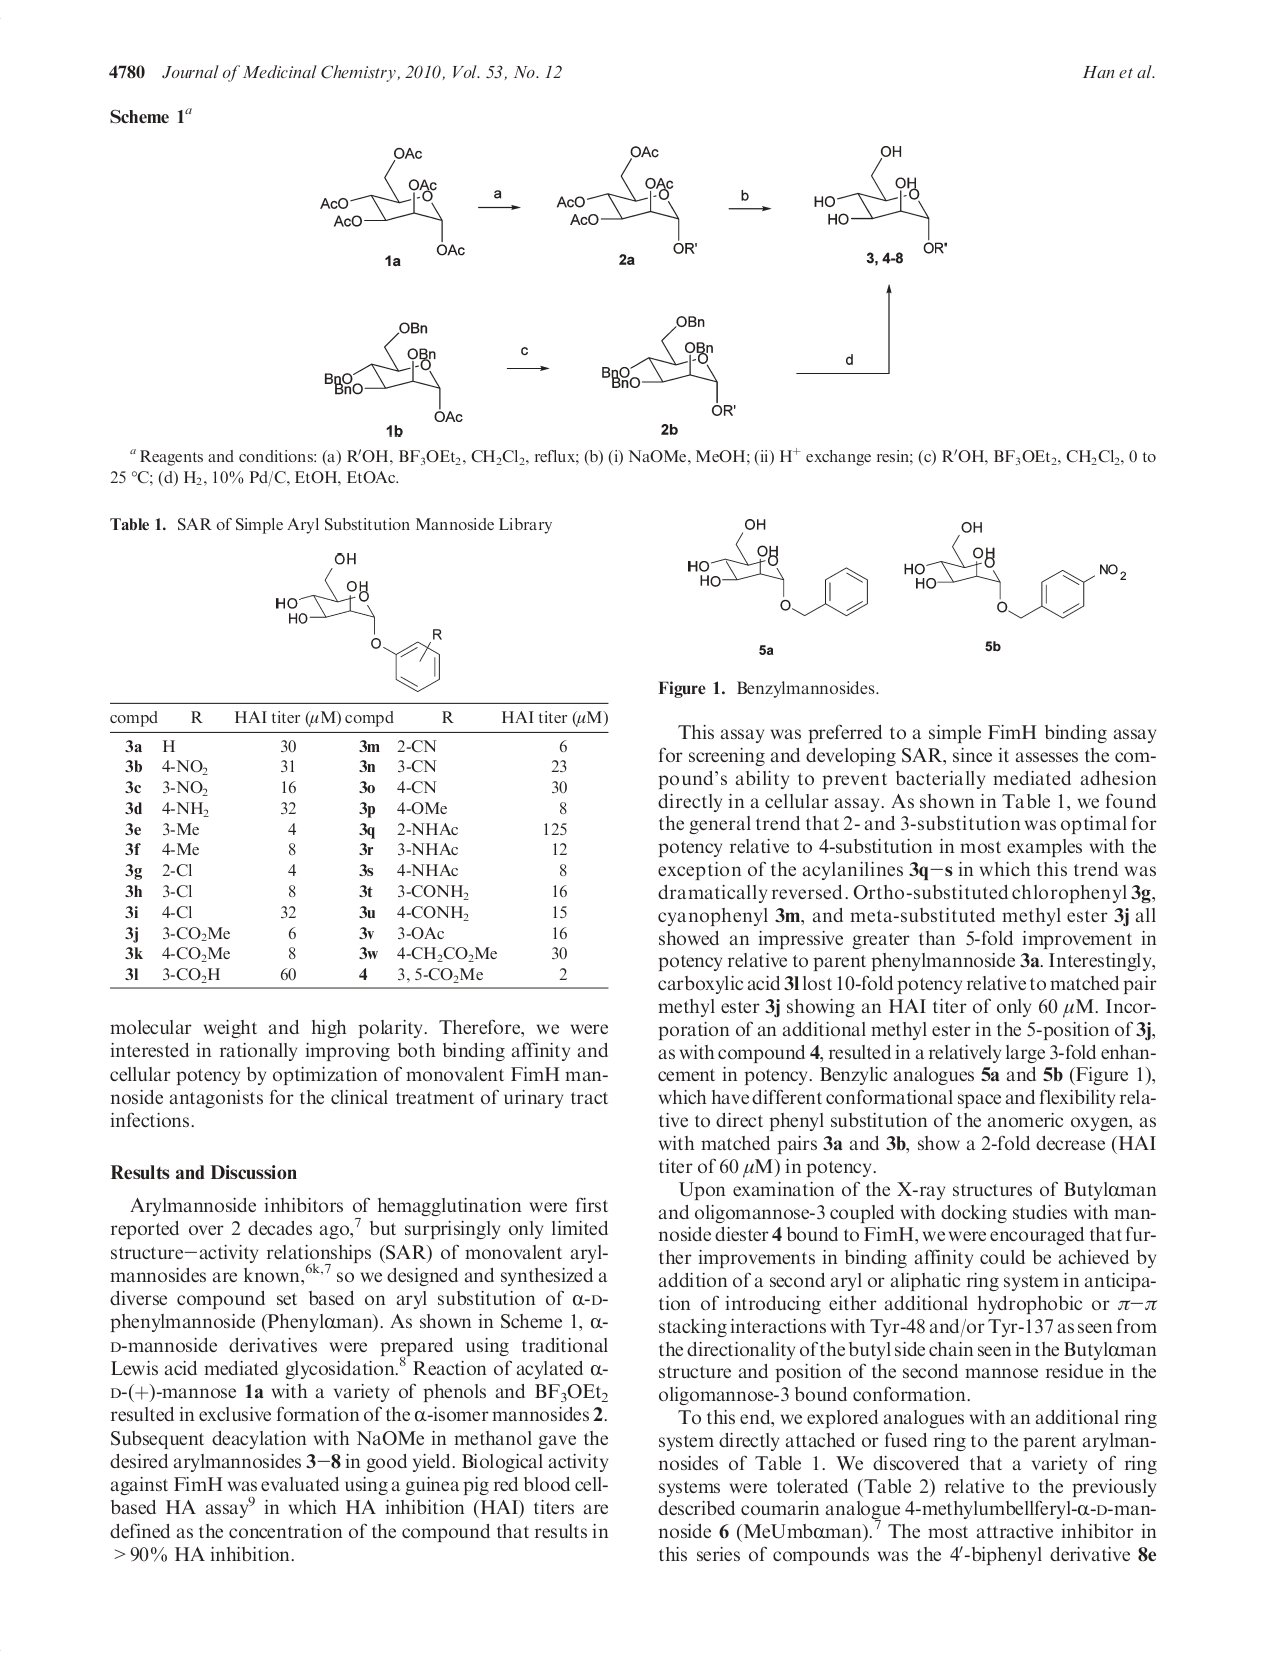exist_molecular: (277, 551, 444, 694), (903, 519, 1128, 620), (686, 513, 871, 618), (555, 140, 699, 258), (319, 144, 467, 255), (814, 141, 951, 257), (322, 321, 463, 426), (598, 315, 738, 418)
